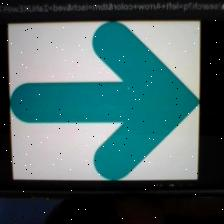right: (11, 23, 200, 180)
